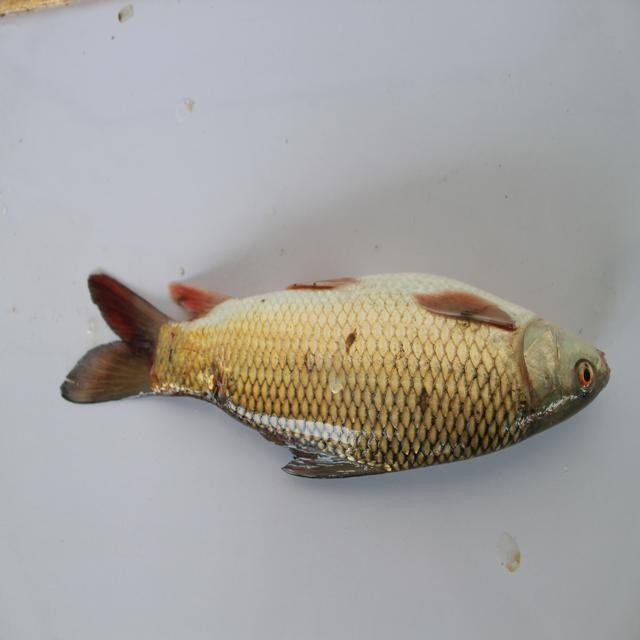Mori: (63, 248, 621, 492)
